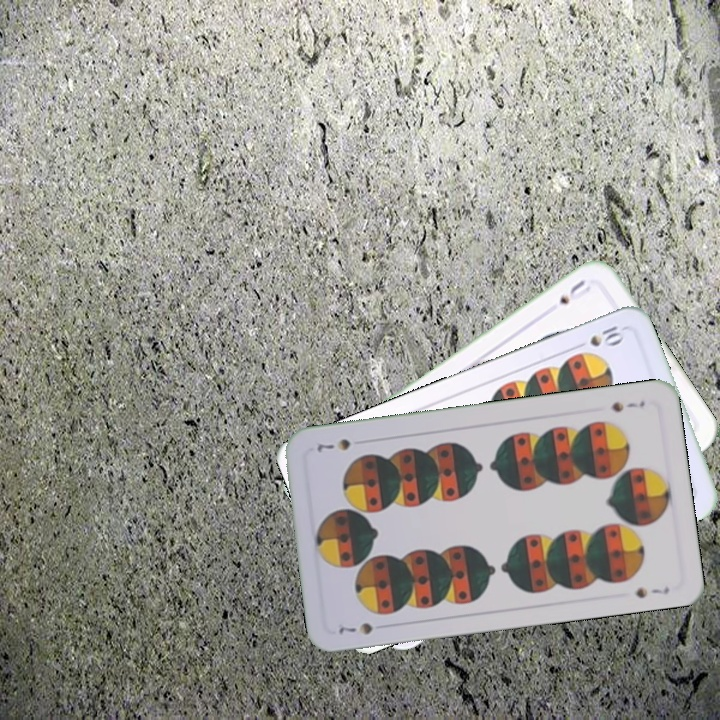S10: (571, 321, 628, 352)
S7: (334, 618, 376, 637), (607, 396, 647, 415)
SU: (555, 275, 594, 307)
